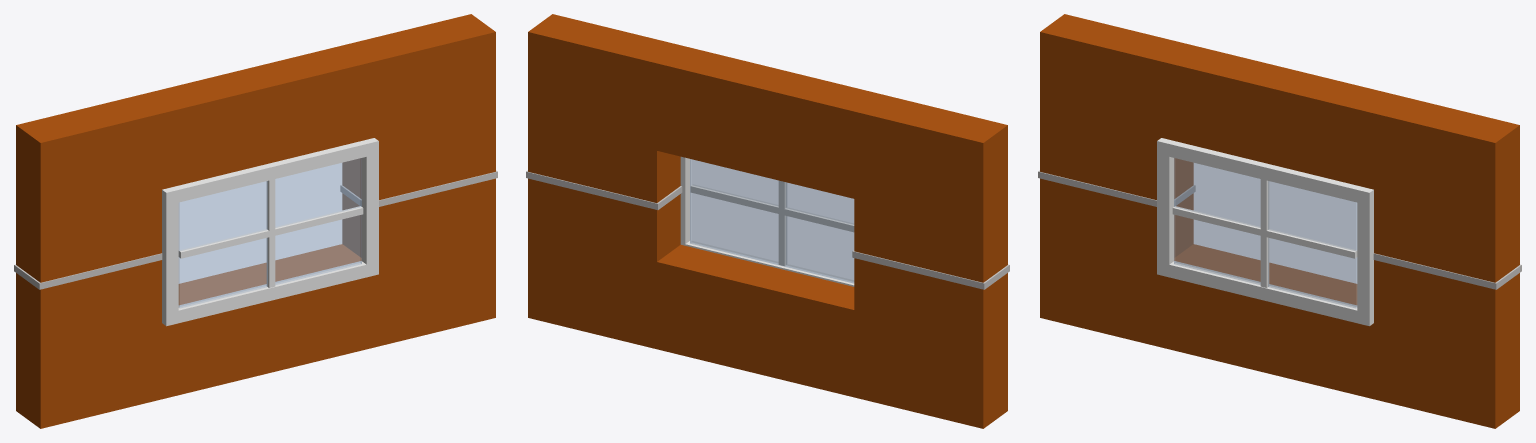
The model's file is brick_wall_window.glb.
3 renders of one model, left to right at view 1: azimuth 30°, elevation 25°; view 2: azimuth 150°, elevation 25°; view 3: azimuth 330°, elevation 25°, orthographic.
Bounding box in the file's own units: 2.39 × 1.43 × 0.2656.
